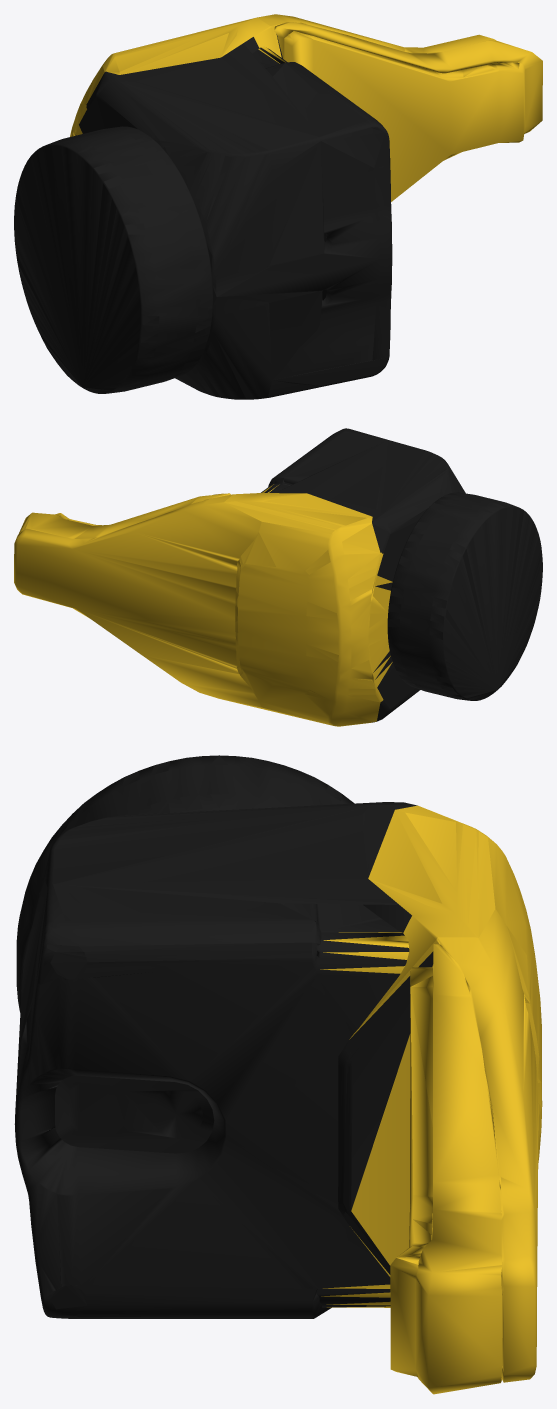
Rendered from arm0.link_wr1.glb.
The picture shows the model from 3 angles, top to bottom: view 1: azimuth 30°, elevation 25°; view 2: azimuth 150°, elevation 25°; view 3: azimuth 270°, elevation 25°; orthographic projection. The views are drawn at different scales.
Visible parts, largest first — view 1: arm0.link_wr1; view 2: arm0.link_wr1; view 3: arm0.link_wr1.
Part boxes in pixels (left/top/right/bottom): arm0.link_wr1: left=14, top=14, right=542, bottom=399; arm0.link_wr1: left=14, top=428, right=542, bottom=726; arm0.link_wr1: left=14, top=755, right=542, bottom=1394.
Size of the model in its own units: 0.1802 by 0.0839 by 0.099.
